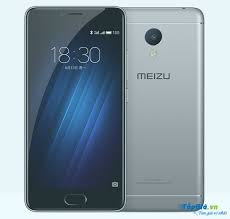meizu: (19, 2, 128, 212), (120, 3, 206, 213)
